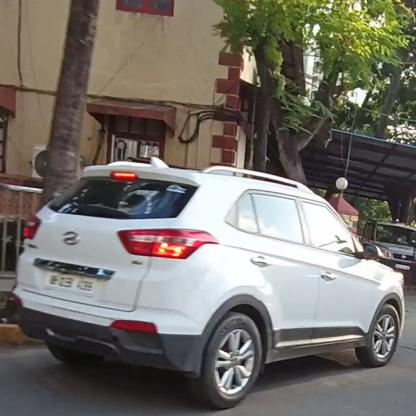license_plate: (45, 270, 98, 294)
